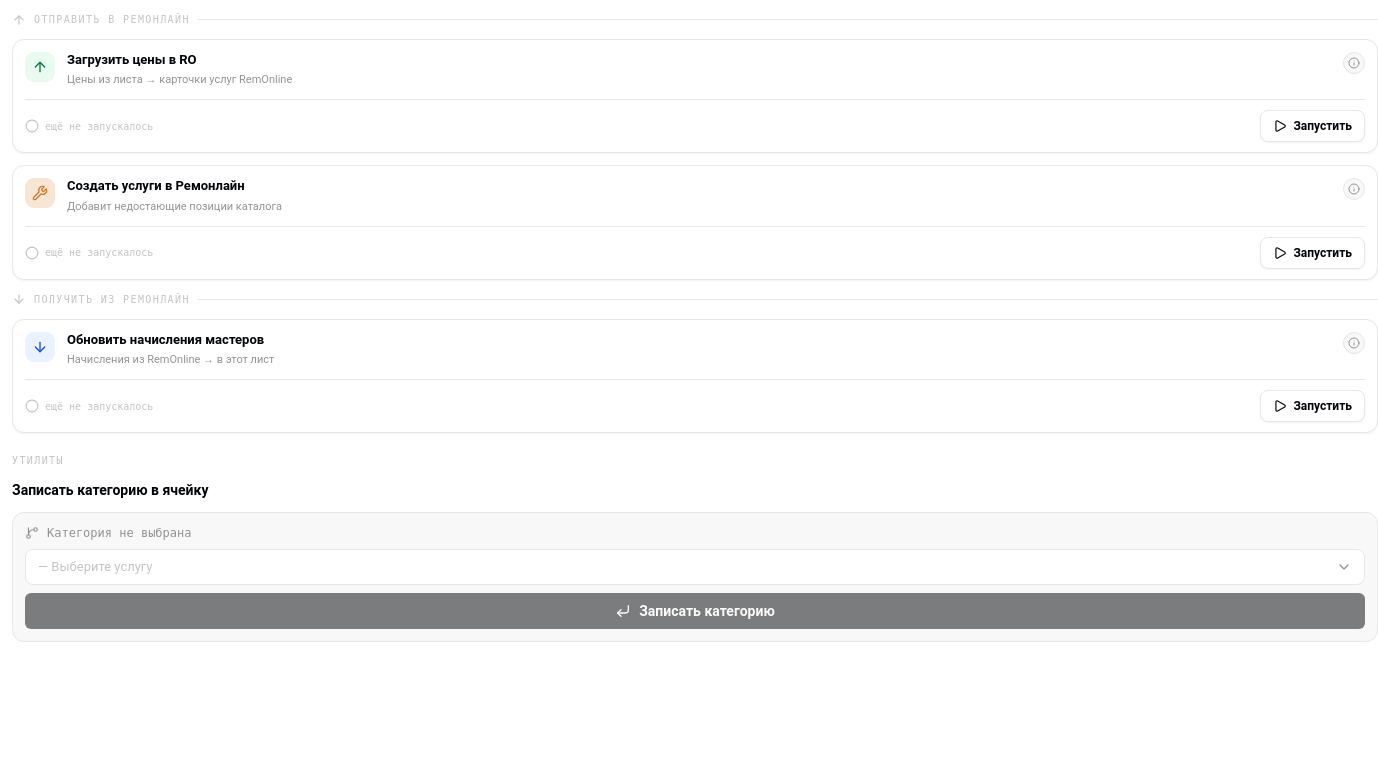
RemonlinePanel › FR8, UX3: reveals the next cascade level only for a category with children; save needs a leaf
Expected: the button with test id "ro-save-category" is disabled, [25,593,1365,629]
Click the dropdown named "Категория, уровень 1": (95, 567) [25,549,1365,585]
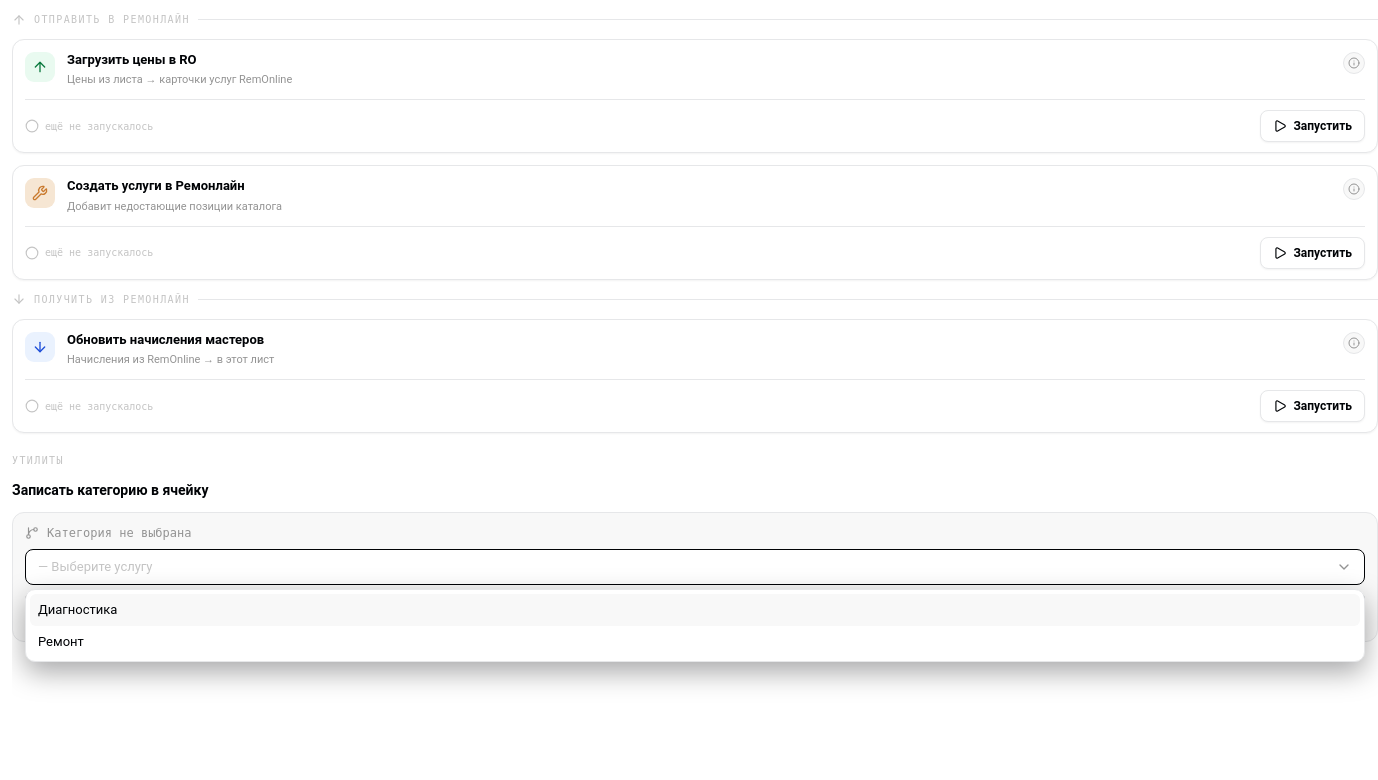
Click the option "Ремонт": (61, 641) [38,634,84,648]
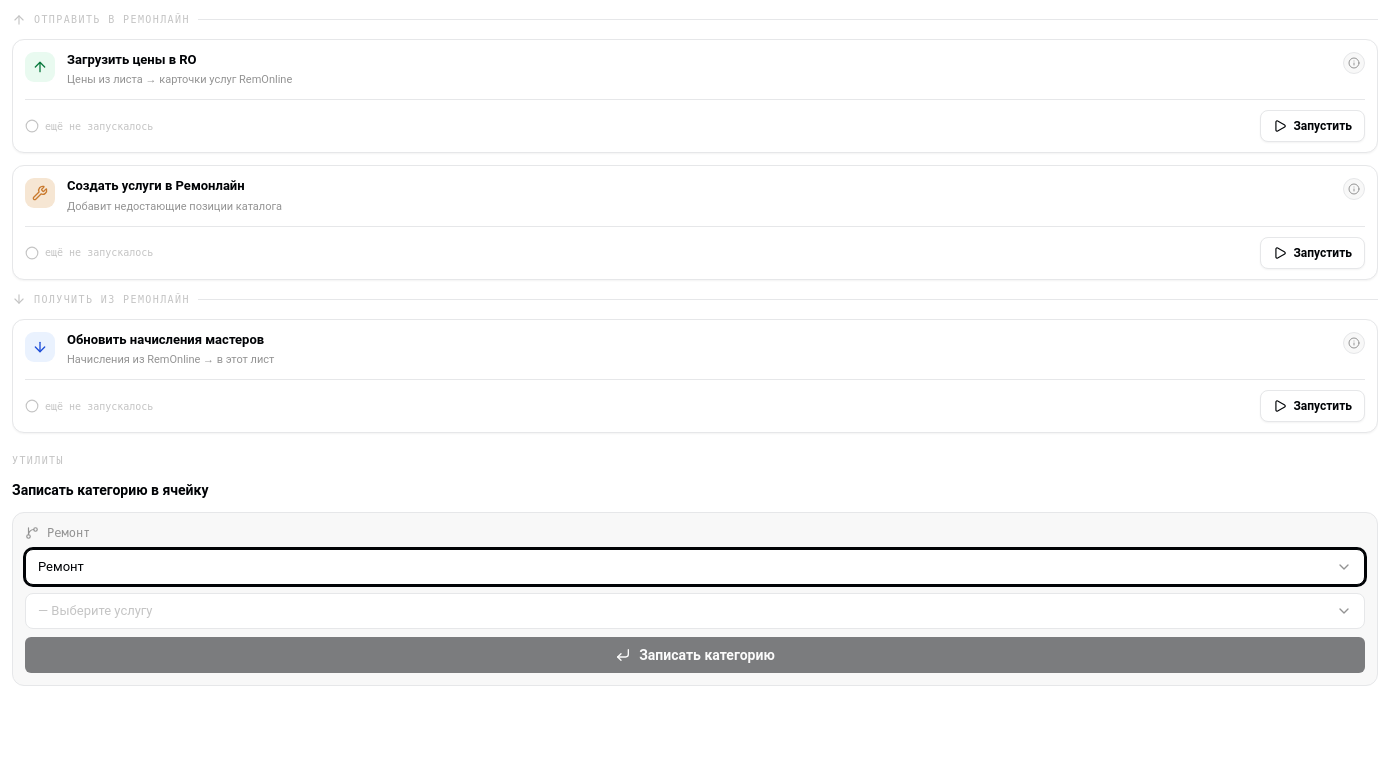
Expected: the button with test id "ro-save-category" is disabled, [25,637,1365,673]
Now the number of dropdowns is 2
Click the dropdown named "Категория, уровень 1": (61, 567) [25,549,1365,585]
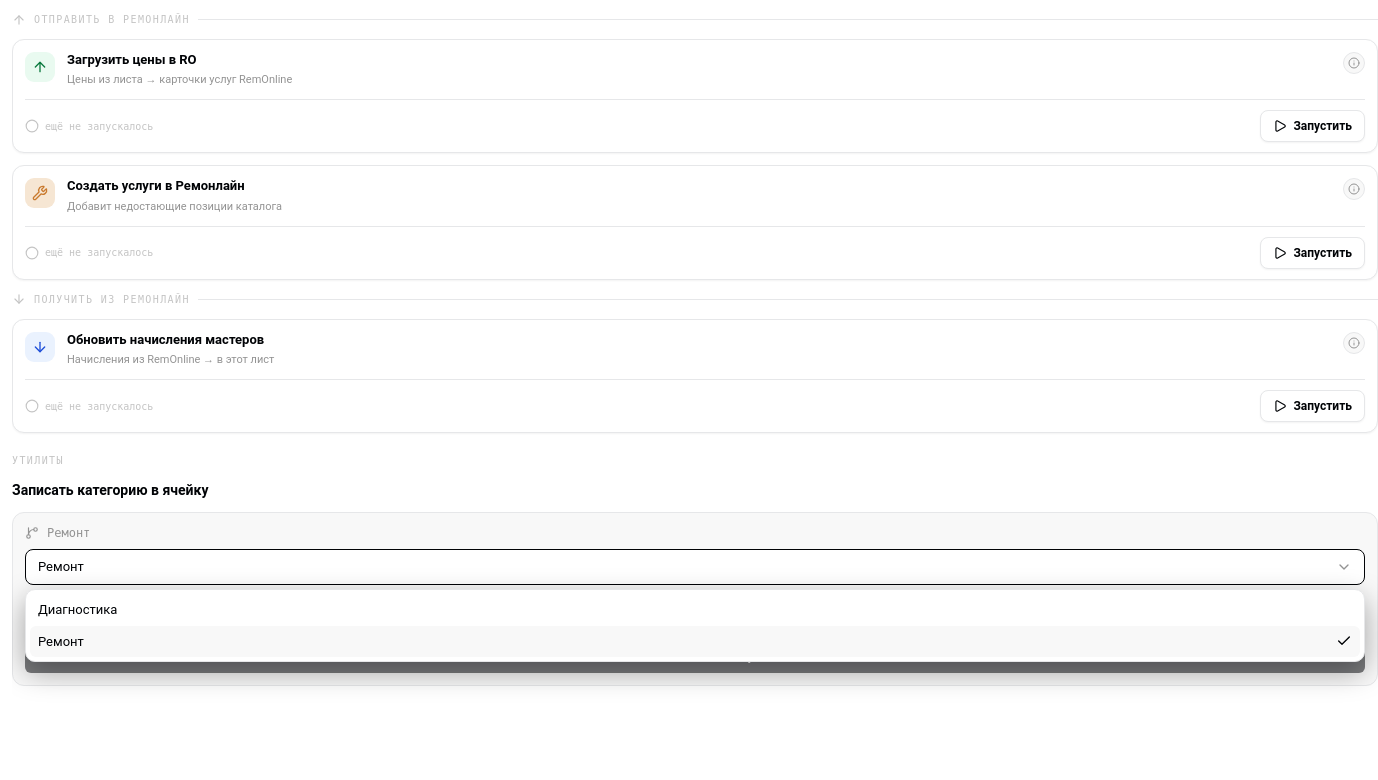
Click the option "Диагностика": (78, 610) [38,602,117,617]
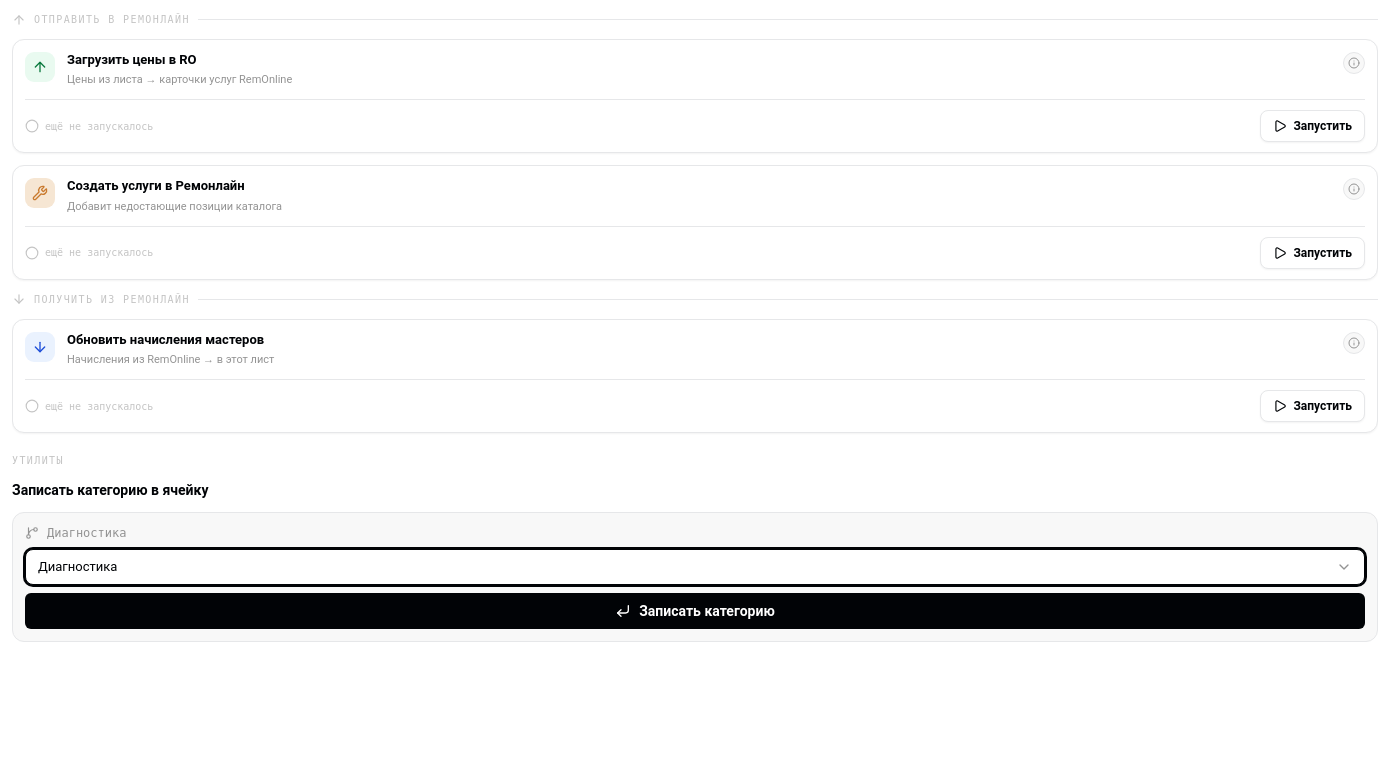
Now the number of dropdowns is 1, box [25,549,1365,585]
Now the button with test id "ro-save-category" is enabled, box [25,593,1365,629]
